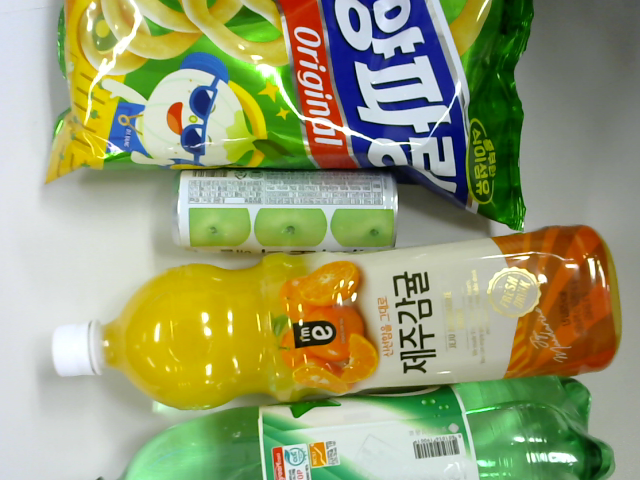Chilseong_Cider_1.5L: (98, 375, 621, 480)
Demisoda_Apple_Can_250ml: (154, 167, 404, 254)
Jeju_Tangerine_1.5L: (42, 232, 619, 393)
Oninon_Ring: (48, 1, 547, 199)
